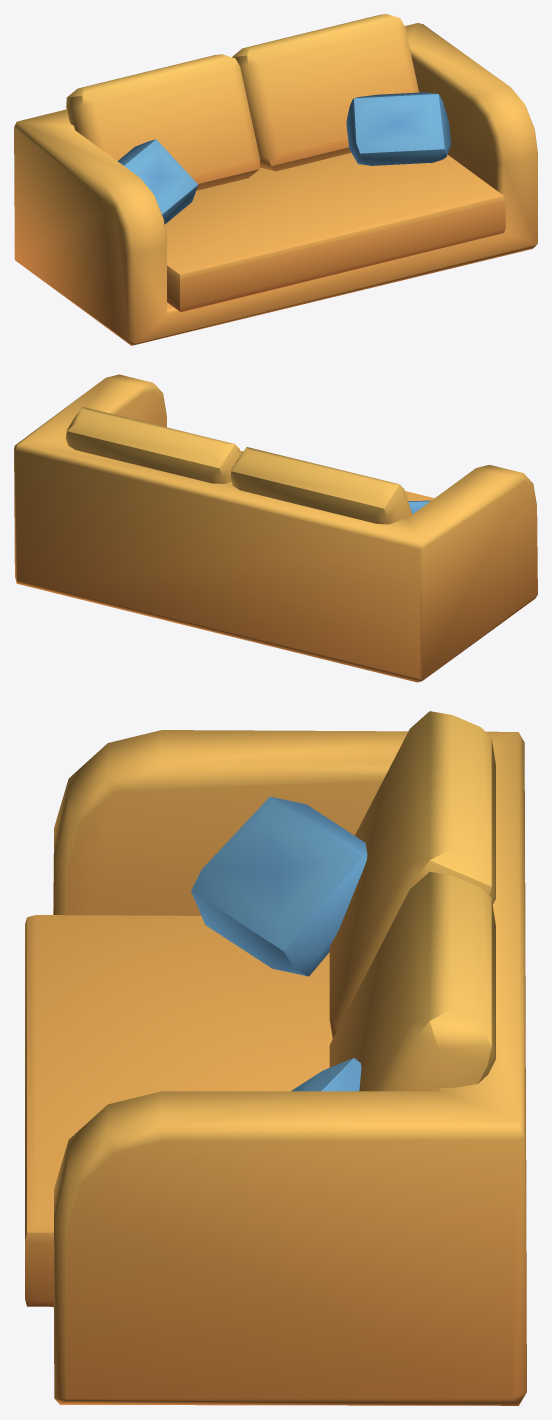
Rendered from cc0-couch-pillows-lod1.glb.
3 views of the same model, one above another, from view 1: azimuth 30°, elevation 25°; view 2: azimuth 150°, elevation 25°; view 3: azimuth 270°, elevation 25° (orthographic). The views are drawn at different scales.
Visible parts, largest first — view 1: part_0; view 2: part_0; view 3: part_0.
Part boxes in pixels (left/top/right/bottom): part_0: left=14, top=14, right=537, bottom=345; part_0: left=14, top=374, right=537, bottom=682; part_0: left=25, top=711, right=526, bottom=1405.
Bounding box in the file's own units: 3 × 1.22 × 1.59.
1 material, 1 textured.
